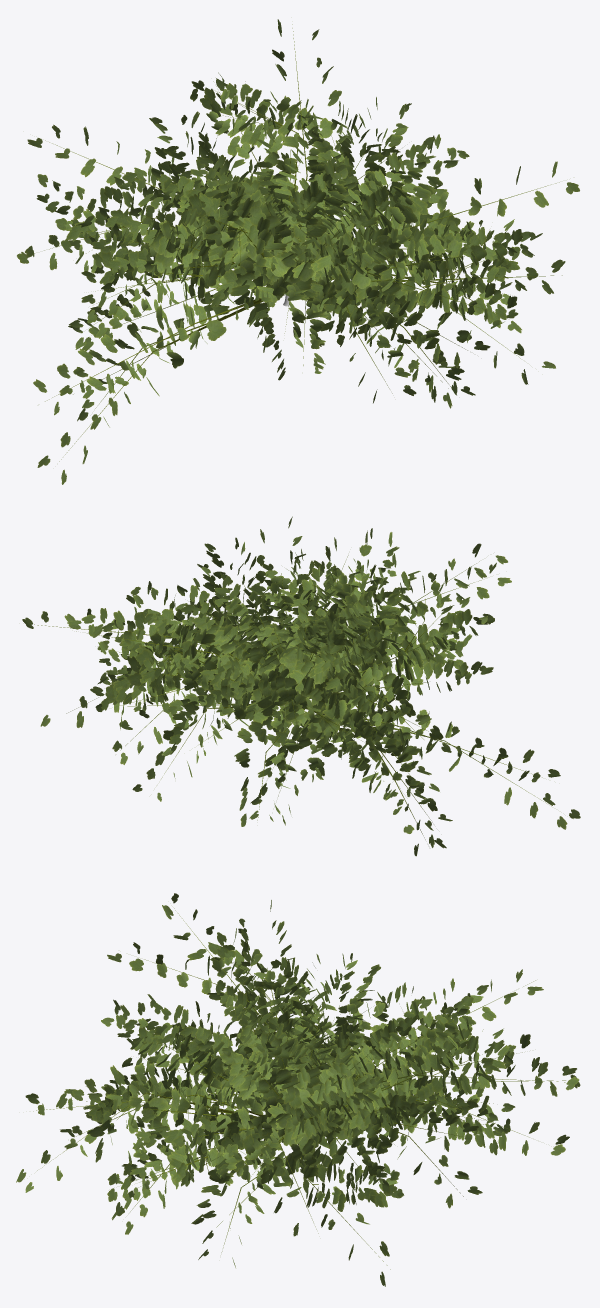
The model's file is LowestBush2.fbx.
3 views of the same model, one above another, from view 1: azimuth 30°, elevation 25°; view 2: azimuth 150°, elevation 25°; view 3: azimuth 270°, elevation 25° (orthographic). The views are drawn at different scales.
Parts seen in each view (by area): view 1: leaf redcurrant_2, plant05_1; view 2: leaf redcurrant_2, plant05_1; view 3: leaf redcurrant_2, plant05_1.
Part boxes in pixels (x1,y1,x2,y2): leaf redcurrant_2: (17,19,579,484); plant05_1: (44,24,562,461); leaf redcurrant_2: (22,516,580,856); plant05_1: (34,555,551,839); leaf redcurrant_2: (16,893,580,1286); plant05_1: (33,908,565,1269).
Size of the model in its own units: 448 by 207 by 395.
Materials: 2 (2 with a texture image).
